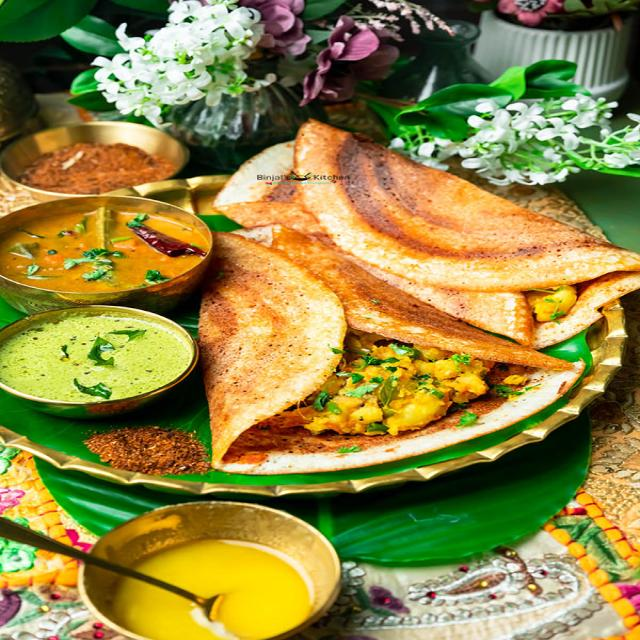DOSA: (196, 119, 634, 469)
